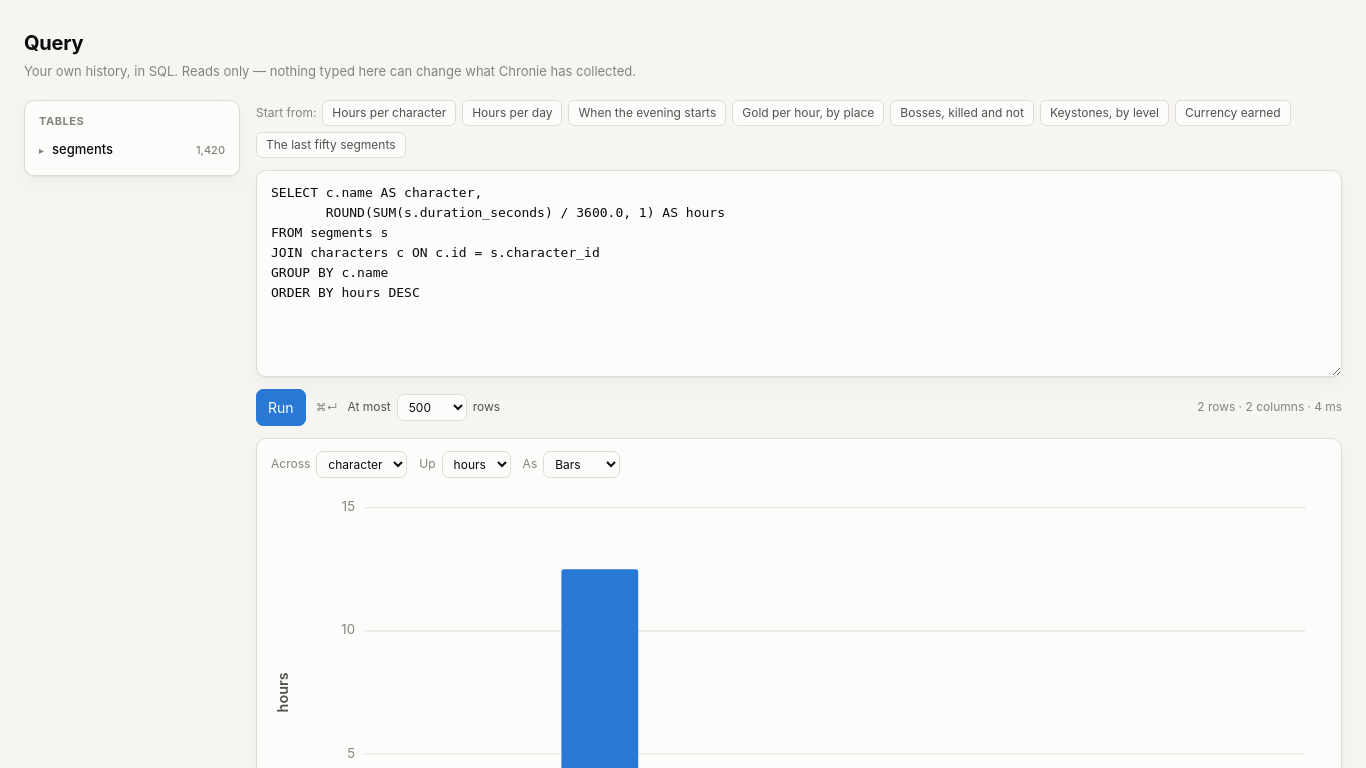
it: QueryView › shows the database's own words and leaves the last rows where they were
Click the button "Run" at (281, 407), box [256, 389, 306, 426]
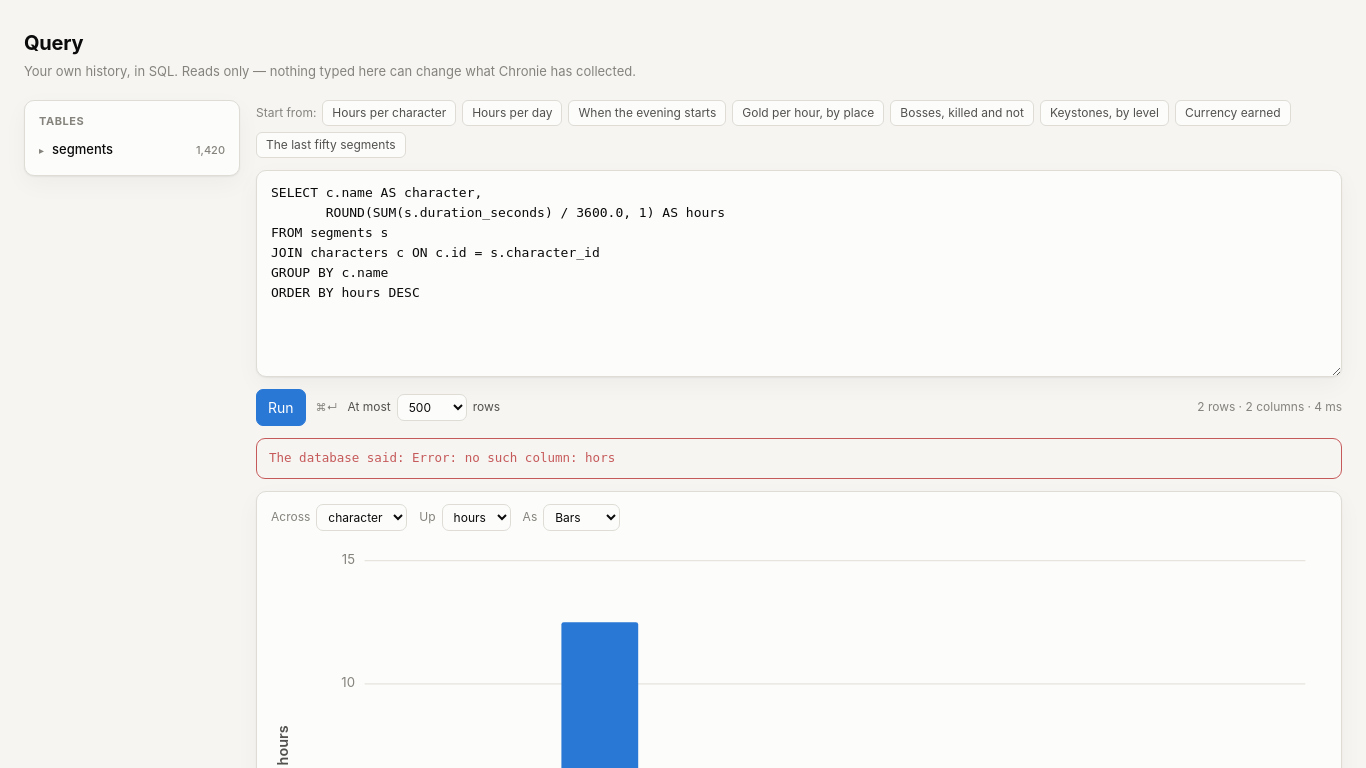
Expected: the message "The database said: Error: no such column: hors" is shown, [256, 438, 1342, 479]
